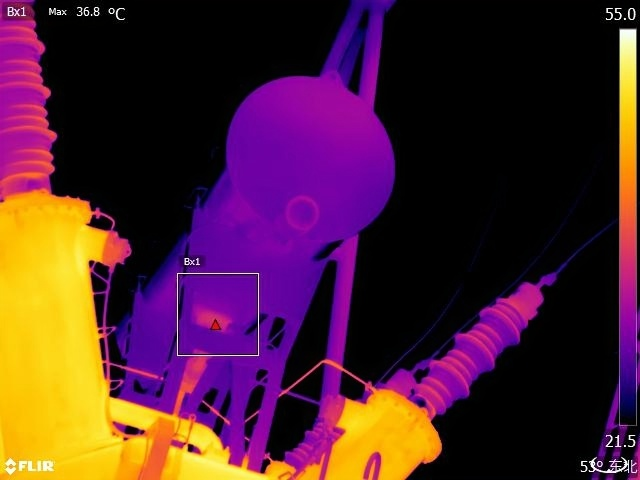oil conservator: (116, 48, 409, 376)
tube: (395, 269, 559, 421), (1, 1, 103, 211)
